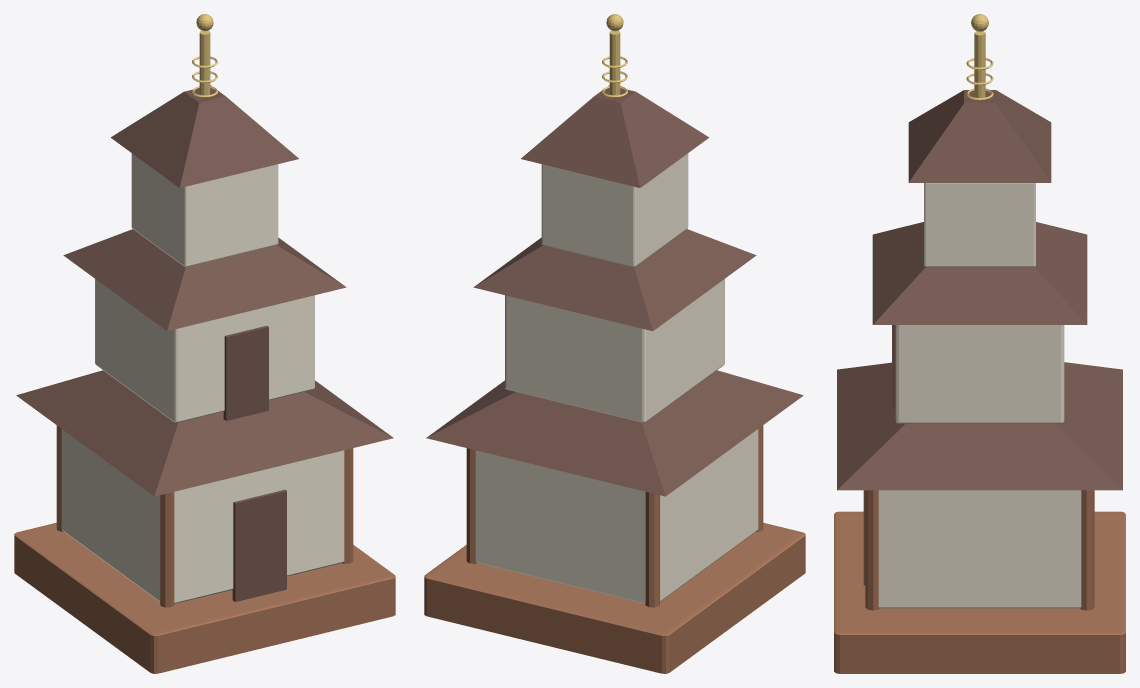
The model's file is pagoda_3tier.glb.
3 renders of one model, left to right at view 1: azimuth 30°, elevation 25°; view 2: azimuth 150°, elevation 25°; view 3: azimuth 270°, elevation 25°, orthographic. The views are drawn at different scales.
Parts seen in each view (by area): view 1: pagoda_3tier; view 2: pagoda_3tier; view 3: pagoda_3tier.
Boxes of the visible parts, <box> form: pagoda_3tier: <box>14,14,395,673</box>; pagoda_3tier: <box>424,14,805,673</box>; pagoda_3tier: <box>834,14,1125,673</box>.
Bounding box in the file's own units: 2.6 × 5.88 × 2.6.
